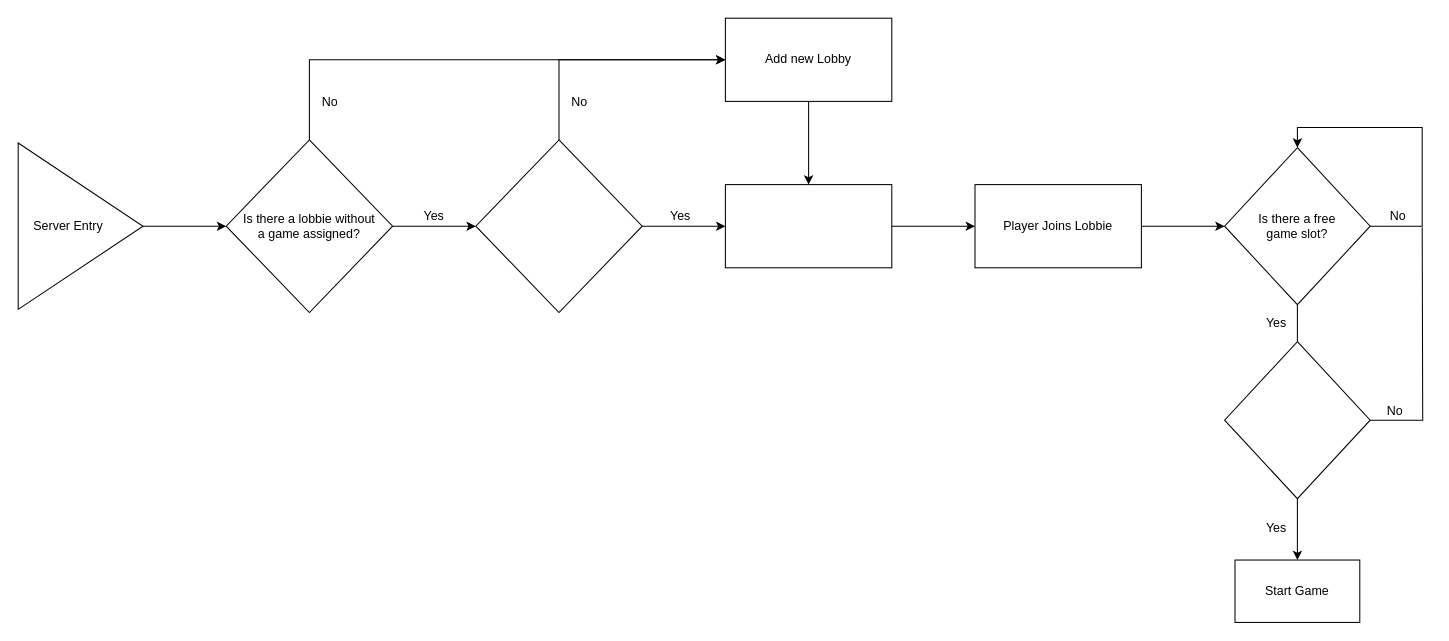
Some shapes in this 1449 by 641 pixel diagram are drawn without their labels. Here are the shapes that lost their labels. From the top down, the centre of each, then its label:
pixel 558 226: Do any of the lobbies have an available client slot
pixel 808 226: Display current lobbies
pixel 1297 420: Is there enough players?
